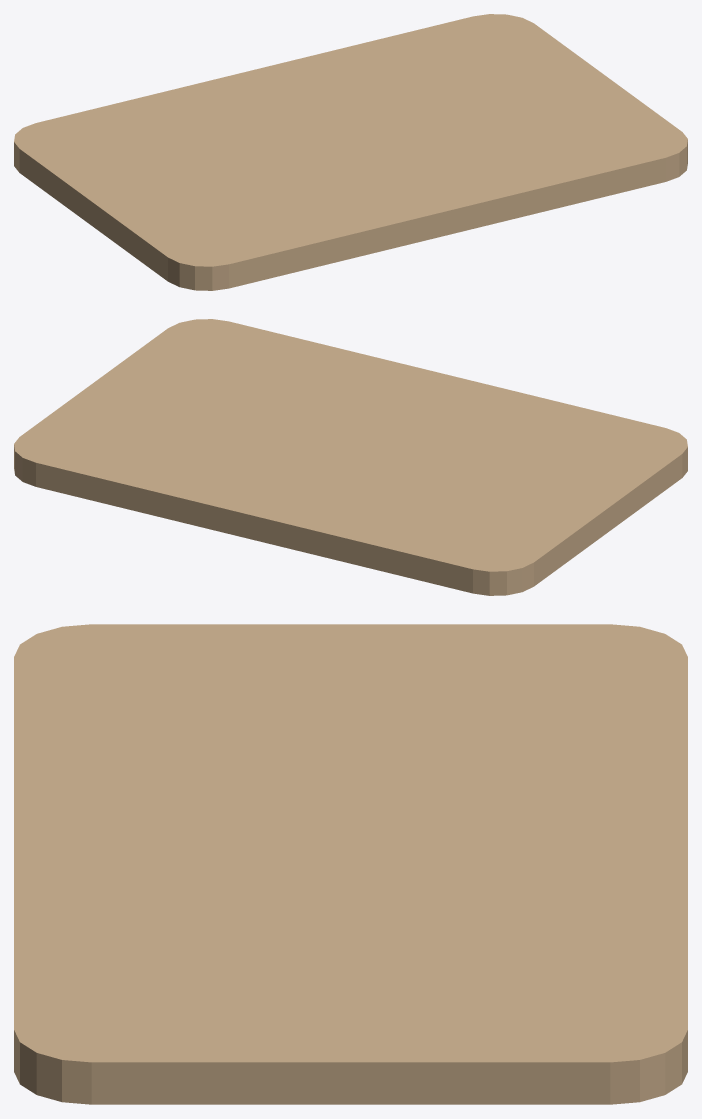
File: cutting_board.glb
3 renders of one model, top to bottom at view 1: azimuth 30°, elevation 25°; view 2: azimuth 150°, elevation 25°; view 3: azimuth 270°, elevation 25°, orthographic. The views are drawn at different scales.
Visible parts, largest first — view 1: tint_wood; view 2: tint_wood; view 3: tint_wood.
Part boxes in pixels (left/top/right/bottom): tint_wood: left=14, top=14, right=687, bottom=290; tint_wood: left=14, top=319, right=687, bottom=595; tint_wood: left=14, top=624, right=687, bottom=1104.
Size of the model in its own units: 0.4 by 0.018 by 0.26.
